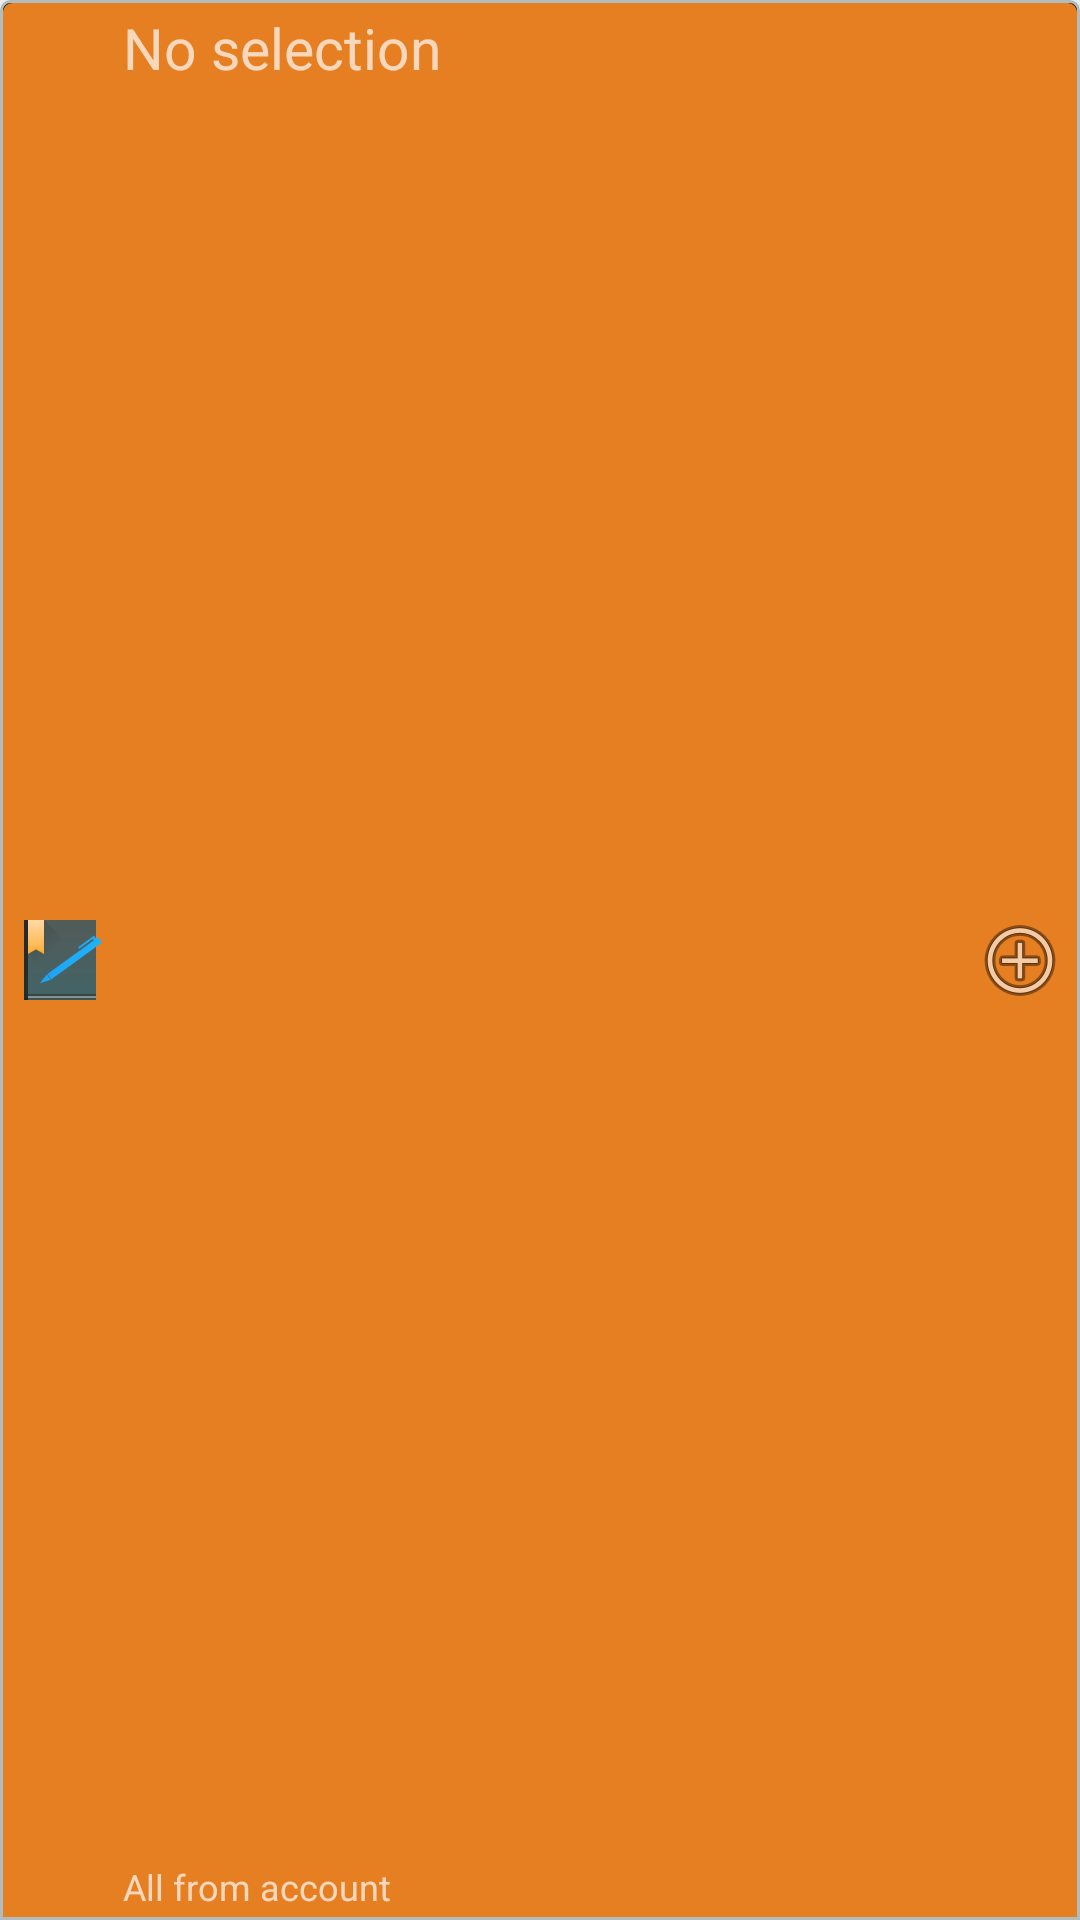

Icon bounding boxes for this 1080×1920 phone screenshot, format bbox=(x1, y1, x2, y2):
add: bbox=(984, 925, 1056, 996)
